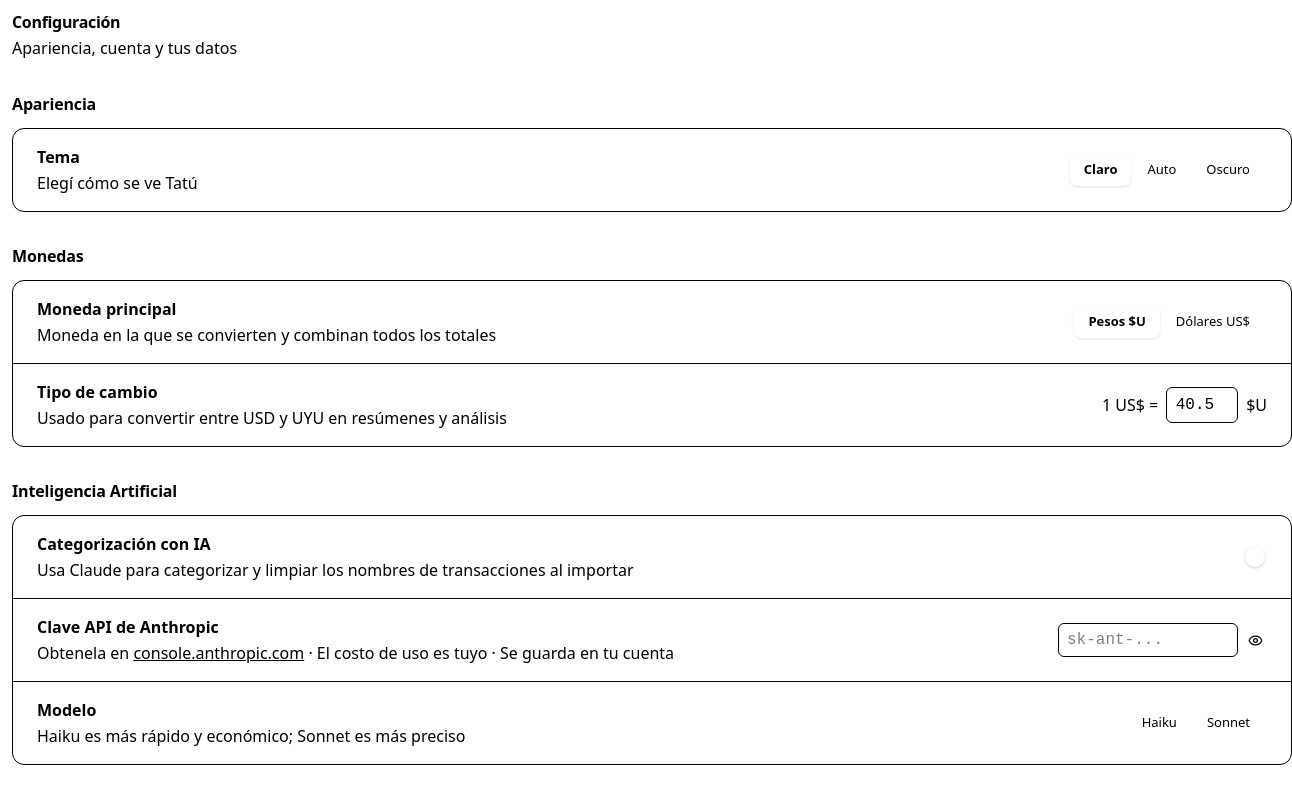
Settings › gives every Configuración control a Spanish accessible name
Expected: the switch named "Categorización con IA" is checked, [1223,545,1267,569]
Expected: the number field named "Tipo de cambio" is shown, [1166,387,1238,423]
Click the button named "Mostrar clave" at point(1256, 640), box [1244,628,1267,652]
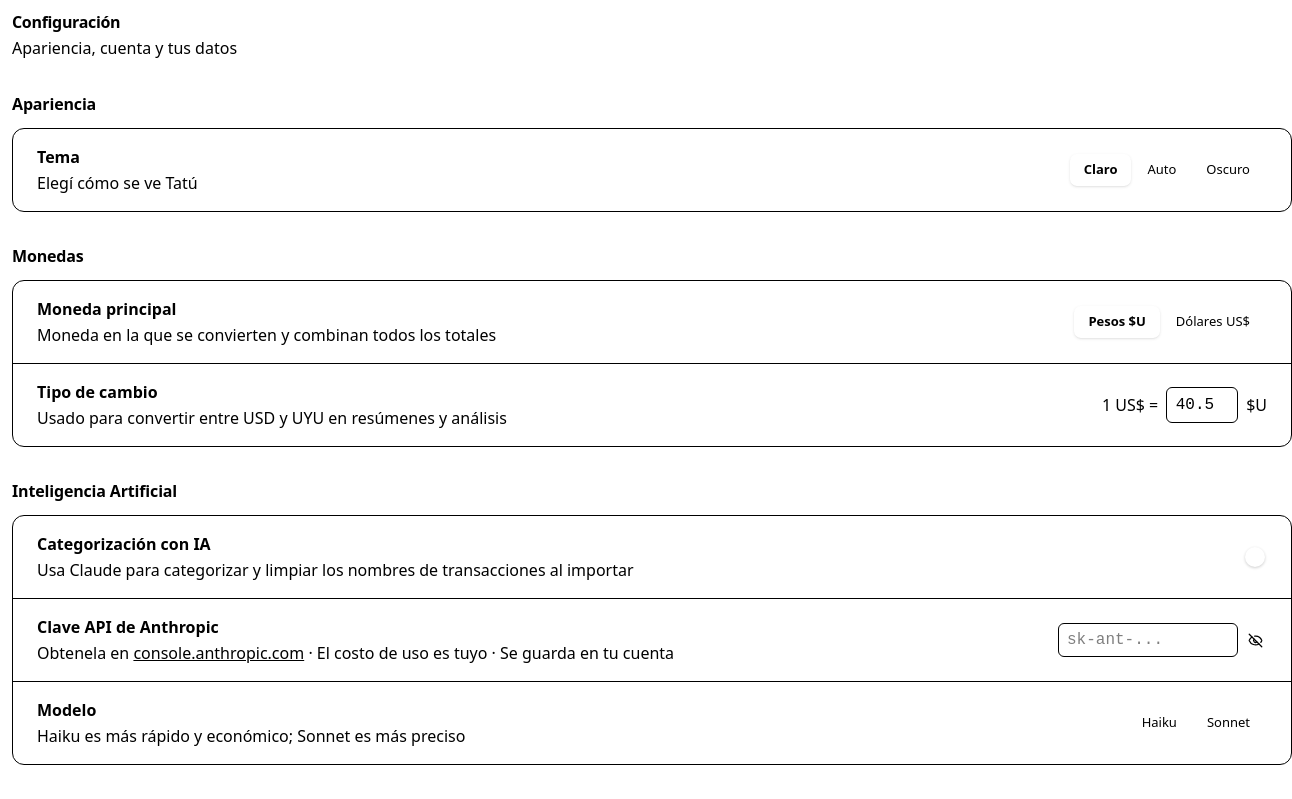
Result: the button named "Ocultar clave" is shown at [1244,628,1267,652]
